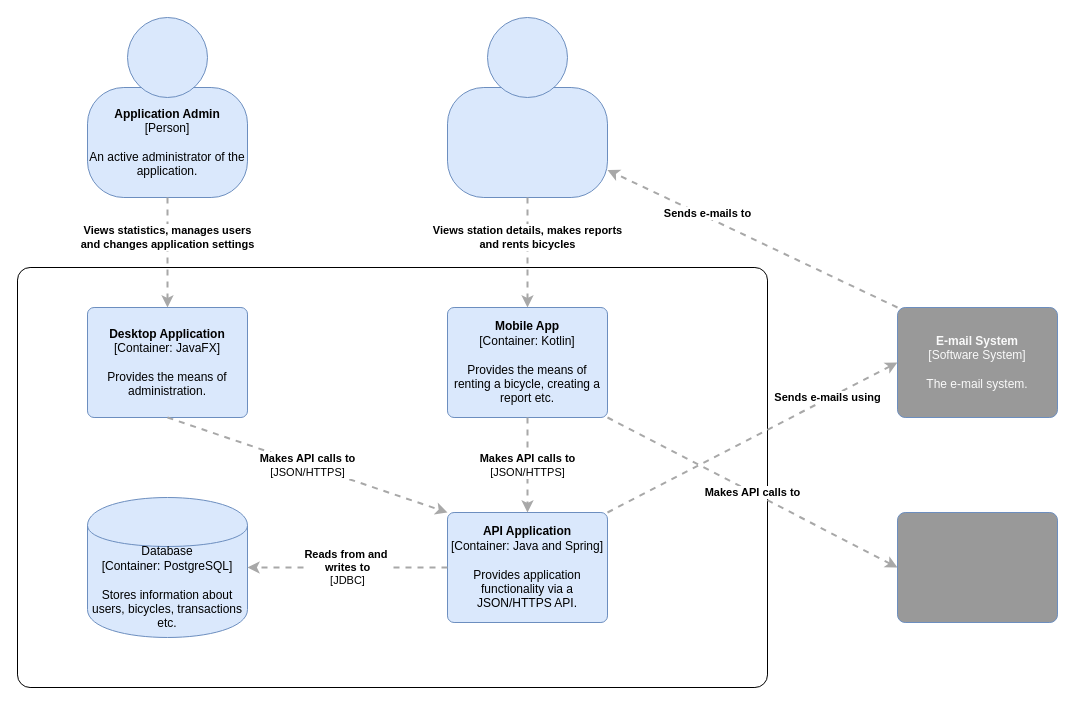
Some shapes in this 1075 by 705 pixel diagram are drawn without their labels. Each missing label, with the box of its shape:
Application System [Software System]: (16, 266, 768, 688)
Application User [Person] A user of the application, with a personal account.: (446, 86, 608, 198)
Google Maps API [Container: Unknown] Provides the map of the city.: (896, 512, 1058, 622)
